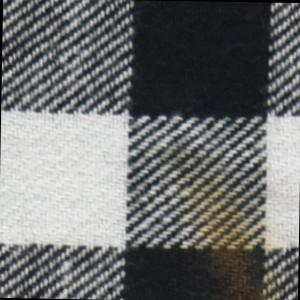Oil Stain: (166, 156, 289, 300)
